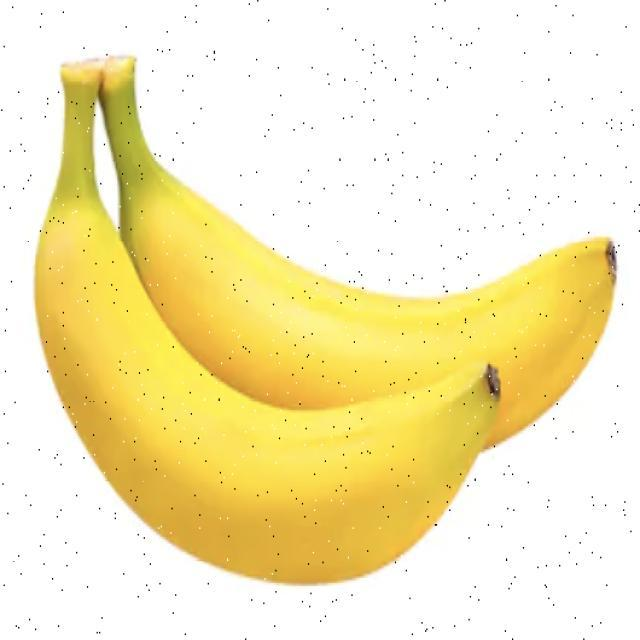Banana: (32, 52, 617, 585)
